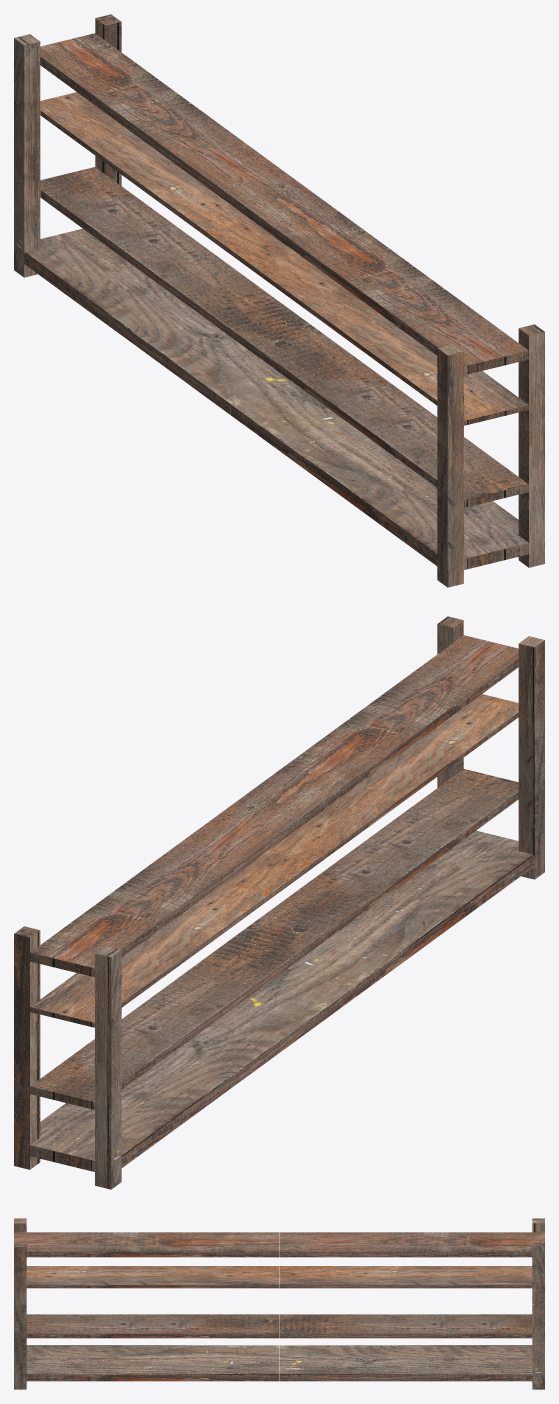
The model's file is large shelf.fbx.
The picture shows the model from 3 angles, top to bottom: view 1: azimuth 30°, elevation 25°; view 2: azimuth 150°, elevation 25°; view 3: azimuth 270°, elevation 25°; orthographic projection. The views are drawn at different scales.
Visible parts, largest first — view 1: Cube.009; view 2: Cube.009; view 3: Cube.009.
Part boxes in pixels (box(x1,y1,x2,y2)): Cube.009: box(14, 14, 544, 587); Cube.009: box(14, 616, 544, 1189); Cube.009: box(14, 1218, 544, 1389).
Size of the model in its own units: 120 by 274 by 927.
Materials: 1 (1 with a texture image).
